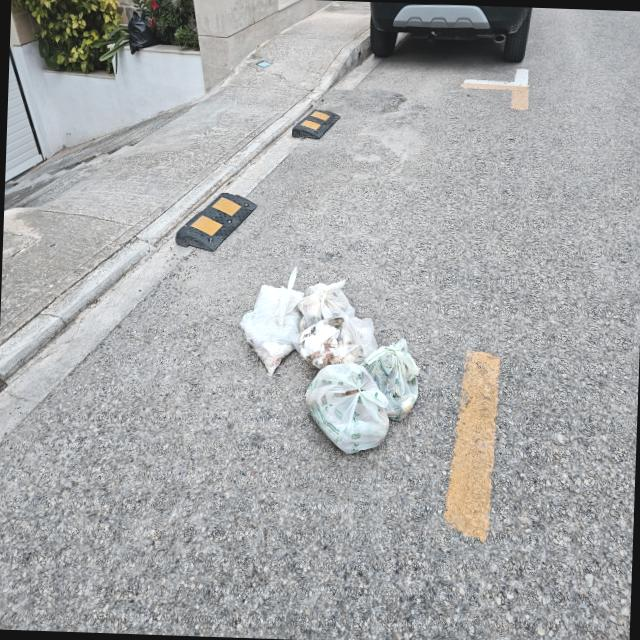white_bag: (300, 359, 394, 458), (237, 260, 305, 380), (290, 309, 382, 370), (362, 336, 423, 424), (304, 274, 359, 314)
